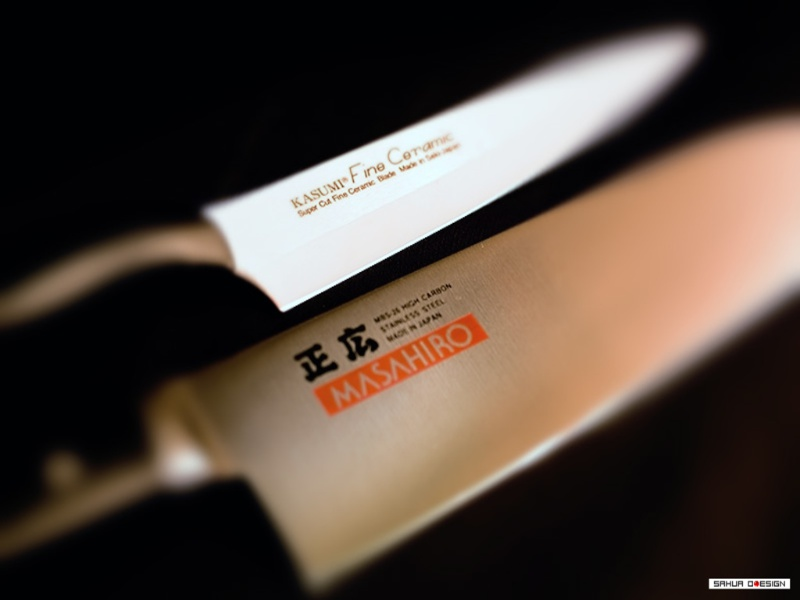knife: (145, 111, 799, 596), (195, 23, 706, 323)
